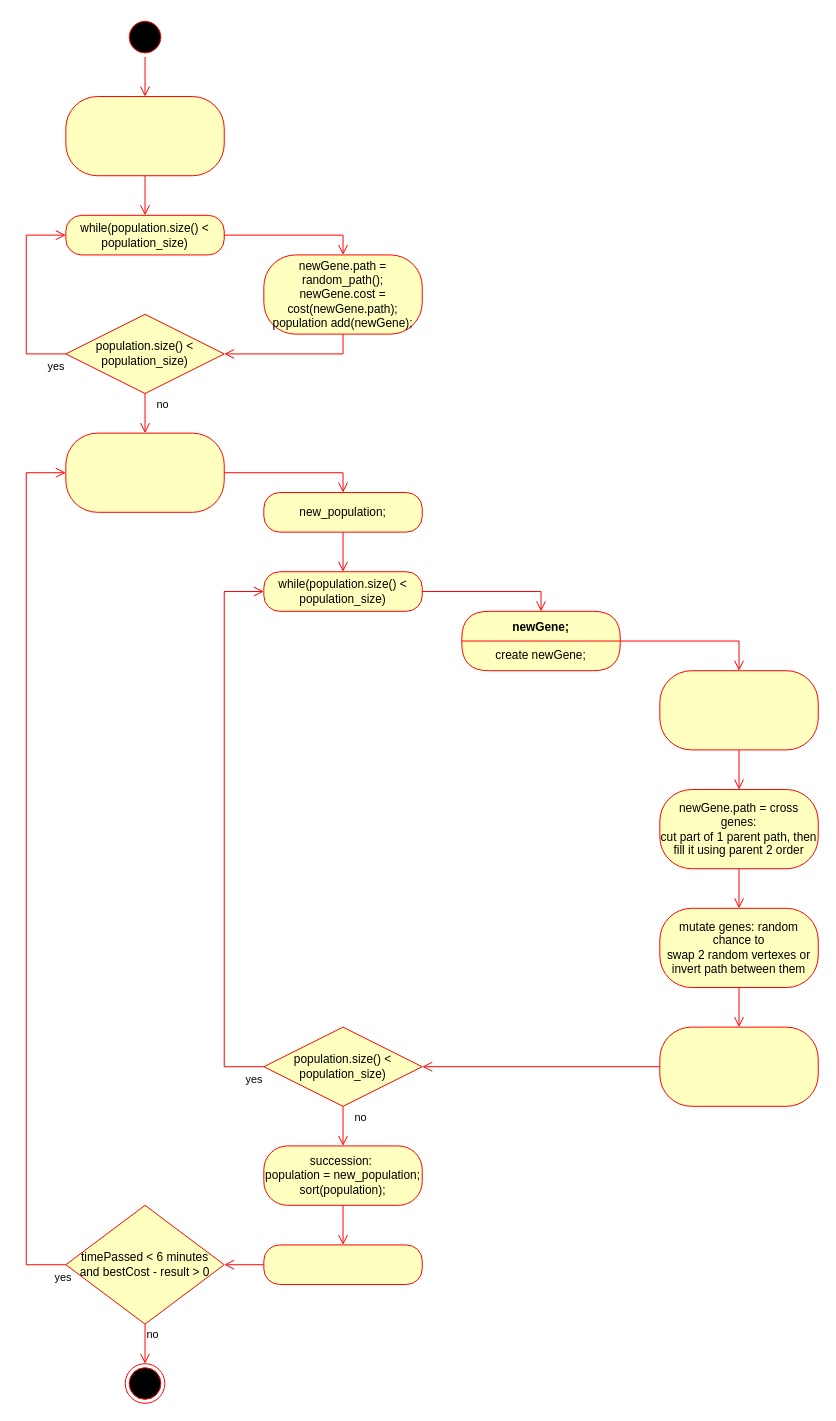
Image size: 836x1421. Some labels were removed from this diagram. Here are the shapes that lost their labels. From the top down, the centre of each, then its label:
(x=144, y=136): bestCost = MAX; population_size = max(n, 100);
(x=144, y=472): while timePassed < 6 minutes and bestCost - result > 0
(x=738, y=710): select parent genes: tournament - random k genes, pick best
(x=738, y=1066): newGene.cost = cost(newGene.path); new_population add(newGene);
(x=342, y=1264): bestCost = min(bestCost, population.first);
